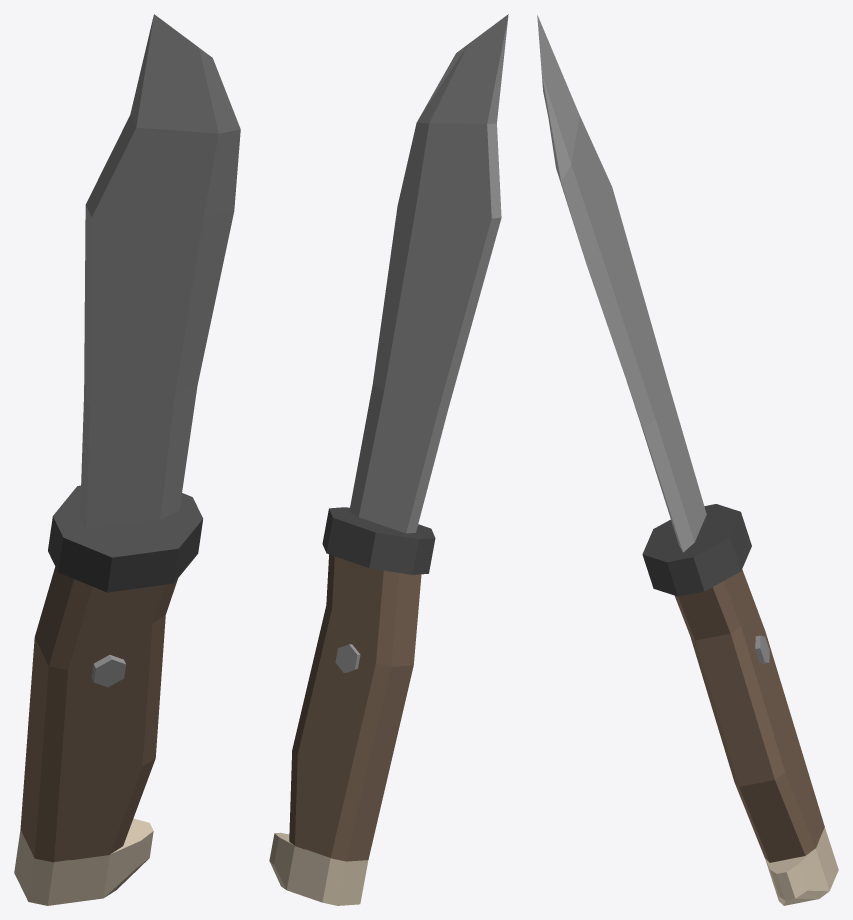
The model's file is Knife.fbx.
3 renders of one model, left to right at view 1: azimuth 30°, elevation 25°; view 2: azimuth 150°, elevation 25°; view 3: azimuth 270°, elevation 25°, orthographic. The views are drawn at different scales.
Parts seen in each view (by area): view 1: Knife; view 2: Knife; view 3: Knife.
Part boxes in pixels (<box>): Knife: <box>14,14,240,905</box>; Knife: <box>269,14,508,905</box>; Knife: <box>537,15,838,905</box>.
Bounding box in the file's own units: 6.91 × 12.48 × 38.74.
